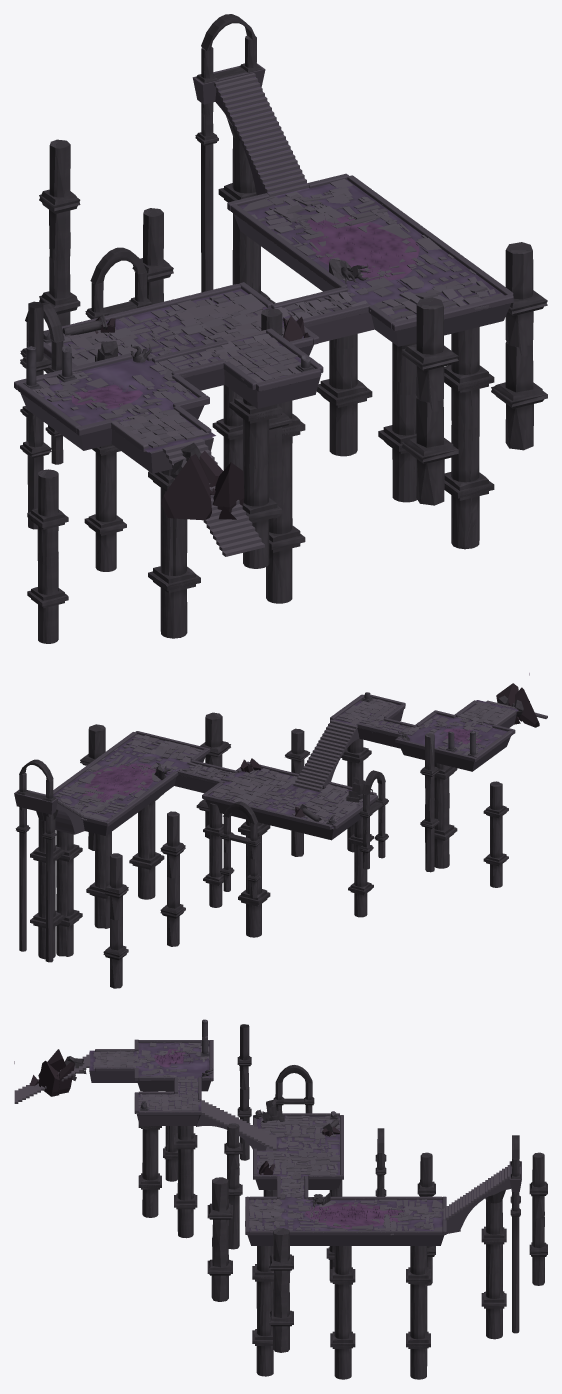
Rendered from Level3-1-Perspective (1).glb.
3 renders of one model, top to bottom at view 1: azimuth 30°, elevation 25°; view 2: azimuth 150°, elevation 25°; view 3: azimuth 270°, elevation 25°, orthographic. The views are drawn at different scales.
Parts seen in each view (by area): view 1: Layout-col, BottomPillar.007, BackPillar.012, BackPillar.007, Stairs.002, BottomPillar.002, BackPillar.009, Ground.002, BottomPillar.003, BottomPillar.001, exported_mesh.007, BottomPillar.009 (+35 smaller); view 2: Layout-col, BottomPillar.009, Stairs.001, BackPillar.005, BackPillar.009, BottomPillar.008, Tiles.011, BottomPillar.007, Ground.002, BottomPillar.001, BottomPillar.004, BottomPillar.003 (+33 smaller); view 3: Layout-col, BottomPillar.008, BottomPillar.010, BottomPillar.009, BackPillar.012, BackPillar.007, BottomPillar.007, BottomPillar.002, Bottom.007, BackPillar.009, Tiles.011, Ground.002 (+26 smaller).
Boxes of the visible parts, <box> form: Layout-col: <box>40,77,504,452</box>; BottomPillar.007: <box>444,327,494,549</box>; BackPillar.012: <box>401,297,458,505</box>; BackPillar.007: <box>491,242,547,450</box>; Stairs.002: <box>214,73,309,196</box>; BottomPillar.002: <box>229,397,282,568</box>; BackPillar.009: <box>39,139,80,326</box>; Ground.002: <box>296,214,419,282</box>; BottomPillar.003: <box>27,469,68,643</box>; BottomPillar.001: <box>148,469,200,638</box>; exported_mesh.007: <box>161,450,244,520</box>; BottomPillar.009: <box>316,334,372,456</box>; Layout-col: <box>53,700,518,827</box>; BottomPillar.009: <box>55,830,82,956</box>; Stairs.001: <box>293,719,357,791</box>; BackPillar.005: <box>160,811,185,946</box>; BackPillar.009: <box>103,853,128,988</box>; BottomPillar.008: <box>30,809,64,959</box>; Tiles.011: <box>211,767,297,806</box>; BottomPillar.007: <box>129,794,164,899</box>; Ground.002: <box>82,757,156,803</box>; BottomPillar.001: <box>434,762,457,868</box>; BottomPillar.004: <box>238,819,270,937</box>; BottomPillar.003: <box>483,781,508,887</box>; Layout-col: <box>89,1043,507,1230</box>; BottomPillar.008: <box>481,1190,506,1339</box>; BottomPillar.010: <box>330,1246,355,1379</box>; BottomPillar.009: <box>406,1246,430,1379</box>; BackPillar.012: <box>207,1177,232,1301</box>; BackPillar.007: <box>269,1228,293,1352</box>; BottomPillar.007: <box>252,1246,273,1376</box>; BottomPillar.002: <box>174,1126,197,1238</box>; Bottom.007: <box>247,1234,444,1245</box>; BackPillar.009: <box>529,1152,547,1285</box>; Tiles.011: <box>257,1149,339,1175</box>; Ground.002: <box>297,1202,404,1228</box>.
Size of the model in its own units: 208 by 132 by 270.
Materials: 8 (5 with a texture image).
